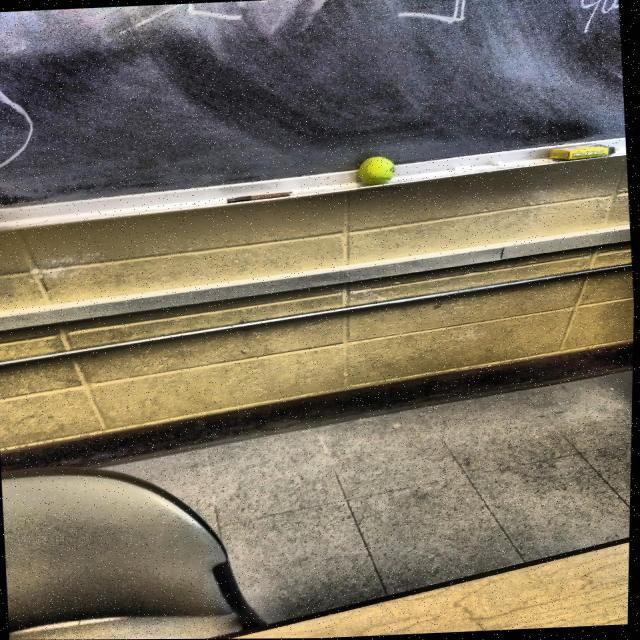tennis-ball: (354, 152, 404, 192)
